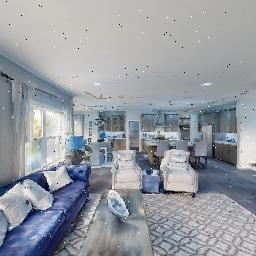door-frame: (126, 119, 142, 153)
sofa: (0, 155, 100, 256), (155, 149, 202, 206), (110, 149, 145, 194)
table: (69, 184, 156, 256)
